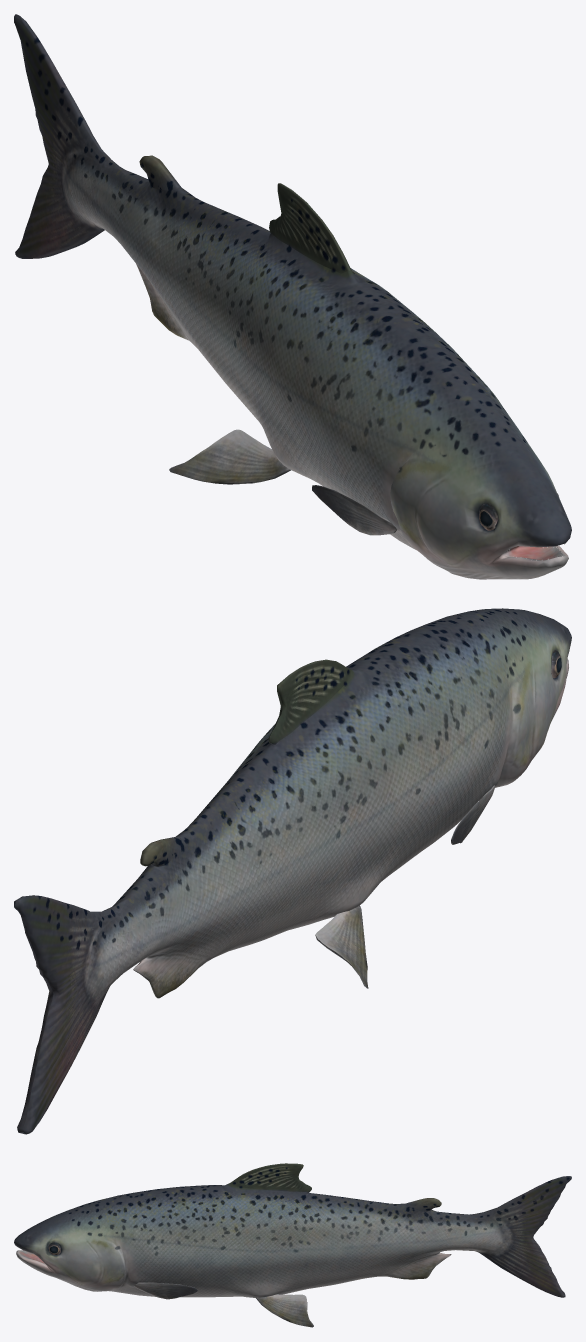
The model's file is fish.fbx.
3 views of the same model, one above another, from view 1: azimuth 30°, elevation 25°; view 2: azimuth 150°, elevation 25°; view 3: azimuth 270°, elevation 25° (orthographic). The views are drawn at different scales.
Parts seen in each view (by area): view 1: fish1; view 2: fish1; view 3: fish1.
Part boxes in pixels (x1,y1,x2,y2): fish1: (14,14,571,579); fish1: (14,608,571,1134); fish1: (14,1163,571,1327).
Bounding box in the file's own units: 20.51 × 27.86 × 99.41.
Materials: 1 (1 with a texture image).
